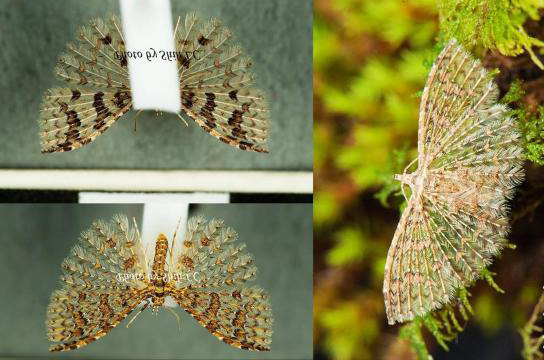Alucitidae: (375, 25, 528, 330), (37, 208, 276, 353), (35, 8, 268, 151)
moth: (377, 27, 530, 332), (39, 210, 278, 355), (37, 10, 270, 153)
